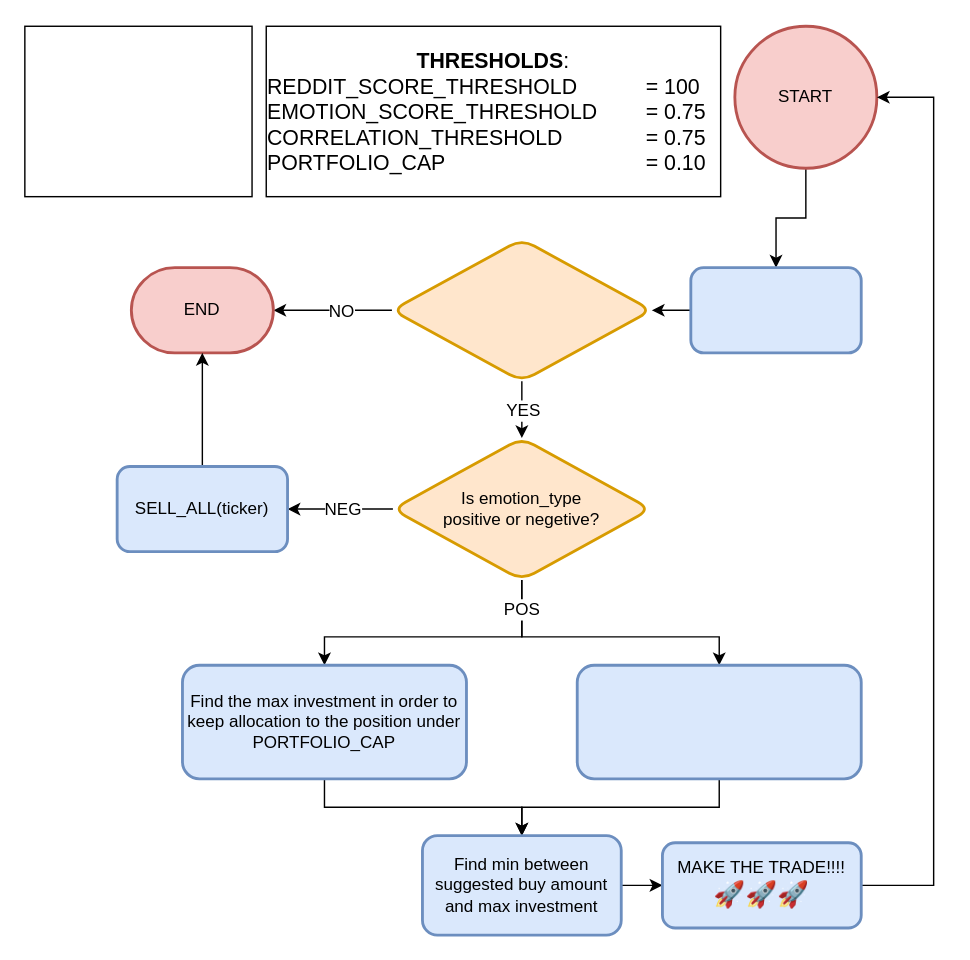
Image size: 970x960. Some labels were removed from this diagram. The shapes that lost their labels are listed below. From the top down, each one's box as (x1, y1, x2, y2) in pixels, then its label:
(23, 25, 252, 197): INPUTS : ticker correlation_to_stock reddit_score emotion_score emotion_type
(390, 237, 652, 382): Does correlation_to_stock and emotion_score meet thresholds?
(689, 266, 862, 354): Get_Positions() Get_Buying_Power()
(575, 663, 862, 780): Calculate suggested amount to buy based on EMOTION_SCORE and REDDIT_SCORE
